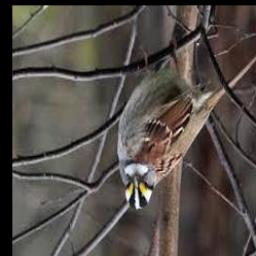Sparrow: (117, 49, 256, 210)
